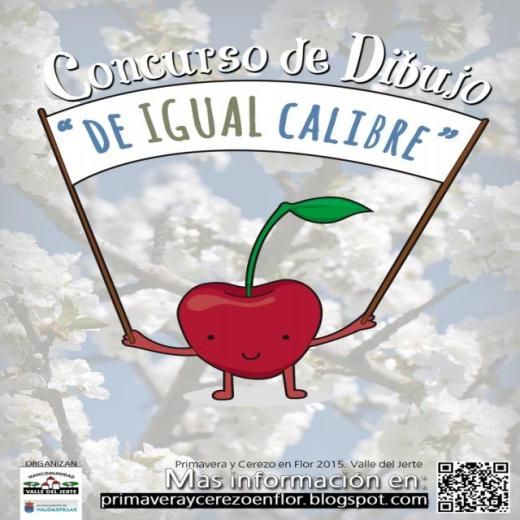Apple: (120, 194, 377, 398)
